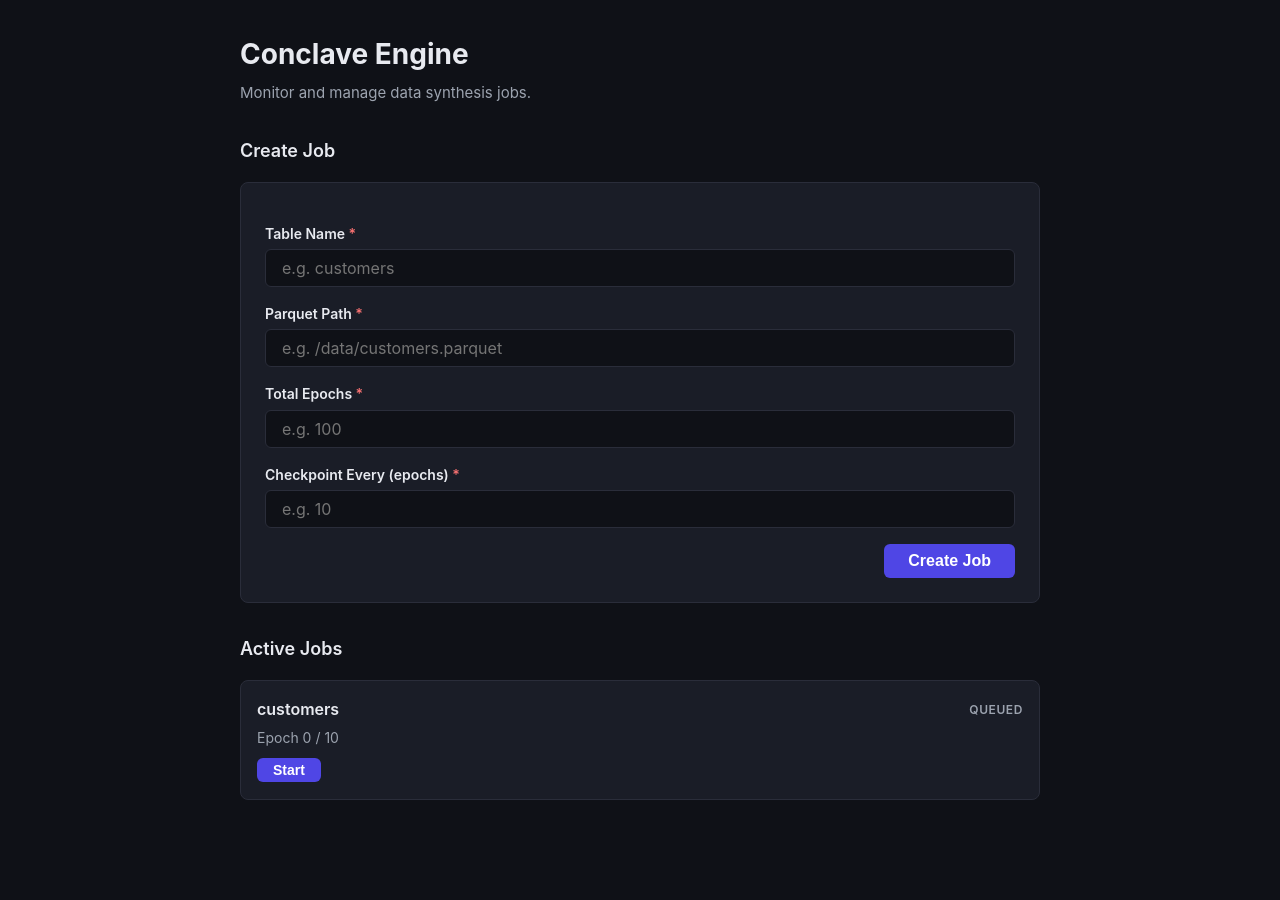
Test case: Dashboard — RFC 7807 error handling › renders error toast when startJob fails
Click the button "Start": [289, 770] box [257,758,321,782]
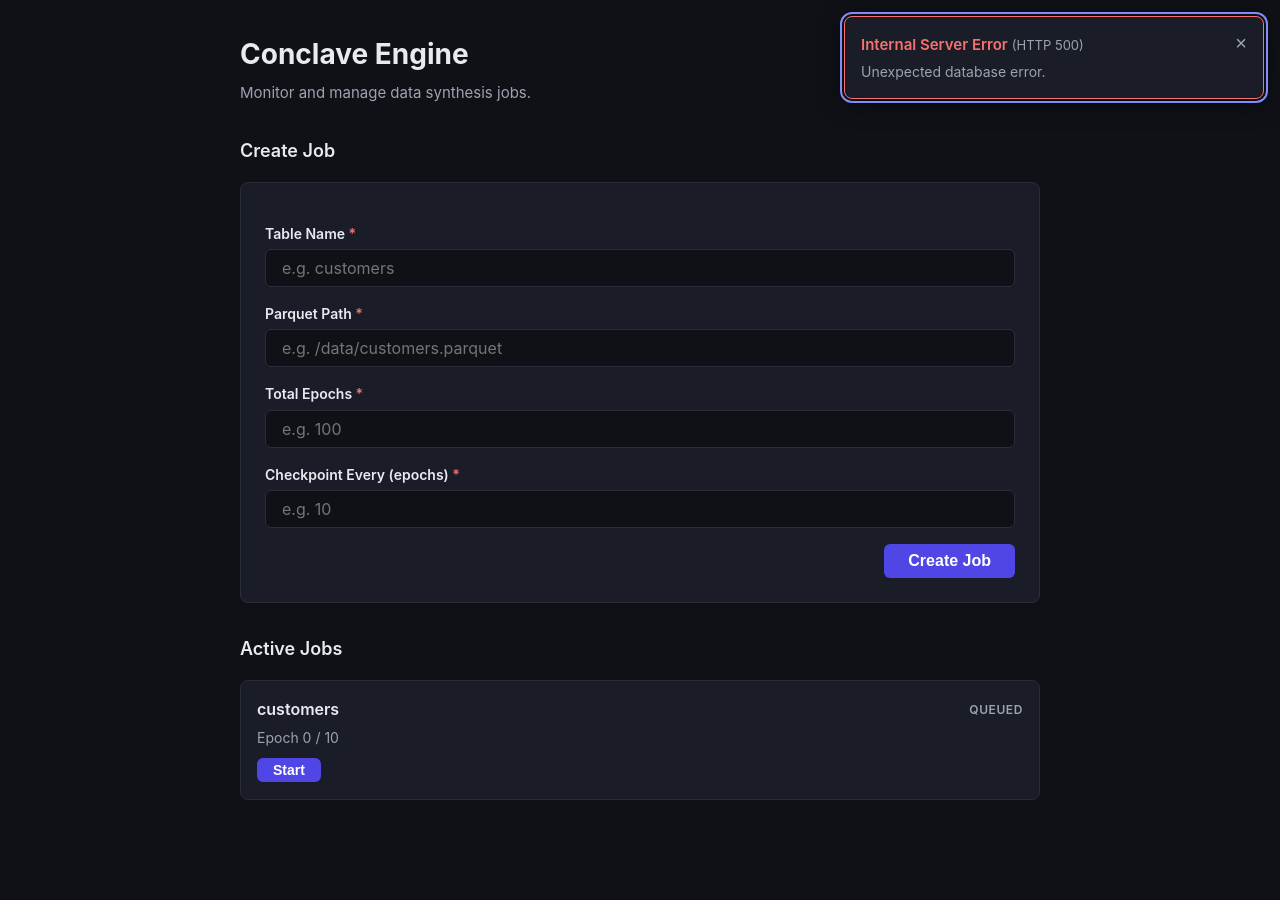
Check: the dialog is shown, box [844,16,1264,99]
Check: the text "Internal Server Error (HTTP 500)" is shown, box [861,35,1084,54]
